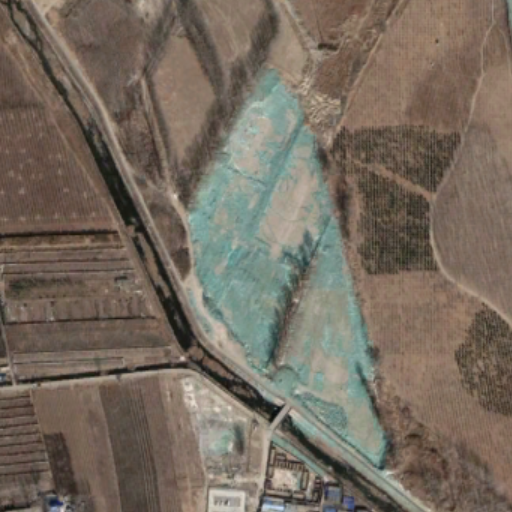cw: (184, 63, 395, 477)
